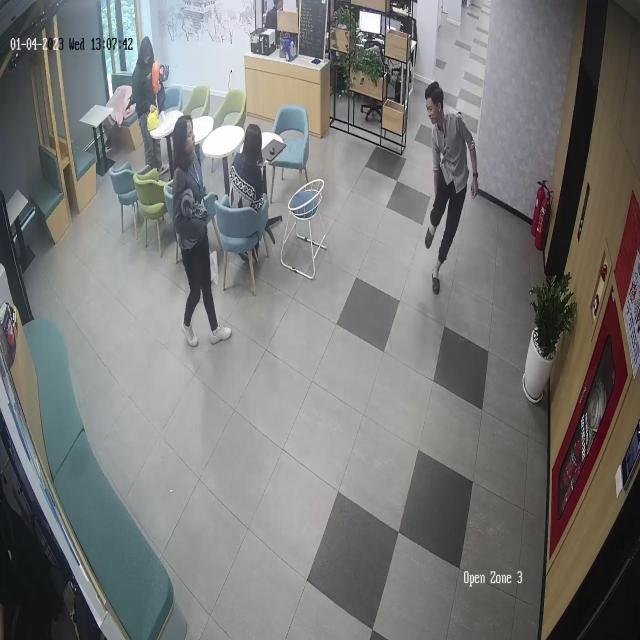person: (172, 117, 232, 347), (424, 80, 480, 295), (228, 123, 275, 258), (131, 35, 171, 164)
